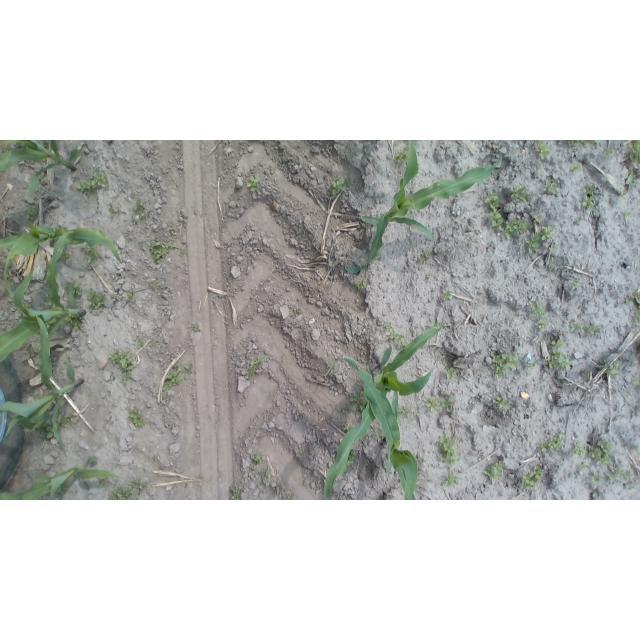Maize: (343, 141, 506, 274), (324, 326, 448, 500), (327, 359, 422, 500), (3, 313, 86, 451), (1, 230, 84, 365), (1, 215, 124, 299), (0, 456, 120, 501), (1, 141, 82, 199)
Weeds: (149, 240, 188, 264), (161, 364, 192, 393), (77, 171, 111, 196), (525, 225, 553, 254), (547, 339, 572, 370), (109, 480, 147, 500), (438, 435, 461, 468), (492, 353, 520, 380), (588, 440, 613, 467), (488, 194, 505, 233), (109, 349, 136, 373), (538, 431, 565, 454), (606, 469, 635, 490), (245, 355, 269, 379), (521, 466, 544, 491), (385, 324, 406, 351), (484, 460, 505, 483), (504, 218, 528, 238), (626, 291, 640, 325), (597, 359, 622, 377), (126, 408, 146, 429), (583, 185, 598, 212), (86, 290, 106, 310), (134, 199, 149, 222), (534, 140, 551, 160), (332, 175, 349, 195), (36, 424, 57, 440), (510, 185, 531, 201), (570, 321, 597, 333), (339, 403, 368, 413), (530, 301, 547, 318), (423, 396, 440, 413), (628, 141, 640, 164), (571, 442, 587, 459), (85, 244, 100, 262), (625, 169, 640, 186), (396, 146, 409, 164), (246, 176, 260, 192), (397, 406, 413, 420), (442, 396, 455, 413), (353, 278, 367, 292), (545, 180, 558, 195), (445, 473, 459, 486), (67, 316, 82, 328), (59, 414, 74, 426), (567, 141, 601, 146), (72, 285, 85, 298), (496, 397, 509, 410), (444, 368, 458, 380), (419, 251, 430, 266), (259, 468, 269, 484), (591, 472, 603, 485), (26, 207, 38, 220), (349, 391, 363, 402), (45, 293, 55, 308), (229, 487, 240, 500), (120, 373, 134, 383), (253, 452, 264, 464), (441, 290, 453, 301), (96, 477, 109, 487), (525, 359, 538, 369), (170, 223, 179, 237), (56, 483, 68, 493), (63, 354, 73, 366), (45, 319, 57, 329), (60, 250, 70, 262), (349, 449, 357, 463), (126, 290, 134, 303), (151, 184, 164, 192), (149, 280, 159, 290), (23, 346, 34, 355), (538, 321, 549, 330), (374, 428, 382, 440), (572, 278, 580, 290), (603, 148, 613, 157), (193, 323, 202, 333), (108, 206, 118, 215), (592, 490, 603, 498), (343, 423, 354, 431), (430, 321, 442, 328), (569, 163, 579, 171), (20, 385, 29, 393), (290, 308, 298, 317), (550, 243, 557, 253), (149, 340, 157, 348), (426, 273, 434, 281), (137, 340, 144, 349), (112, 293, 119, 302), (285, 494, 295, 500), (166, 165, 173, 173), (214, 419, 221, 427), (620, 188, 627, 196), (581, 464, 589, 471), (27, 304, 34, 310), (41, 141, 48, 147), (633, 378, 639, 385), (623, 212, 629, 219), (547, 262, 554, 268)
